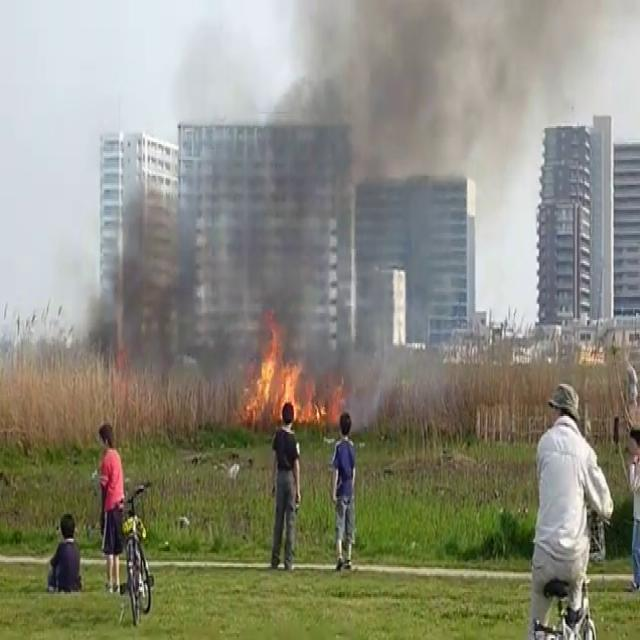Fire: (240, 324, 328, 428)
Smoke: (17, 0, 557, 379)
